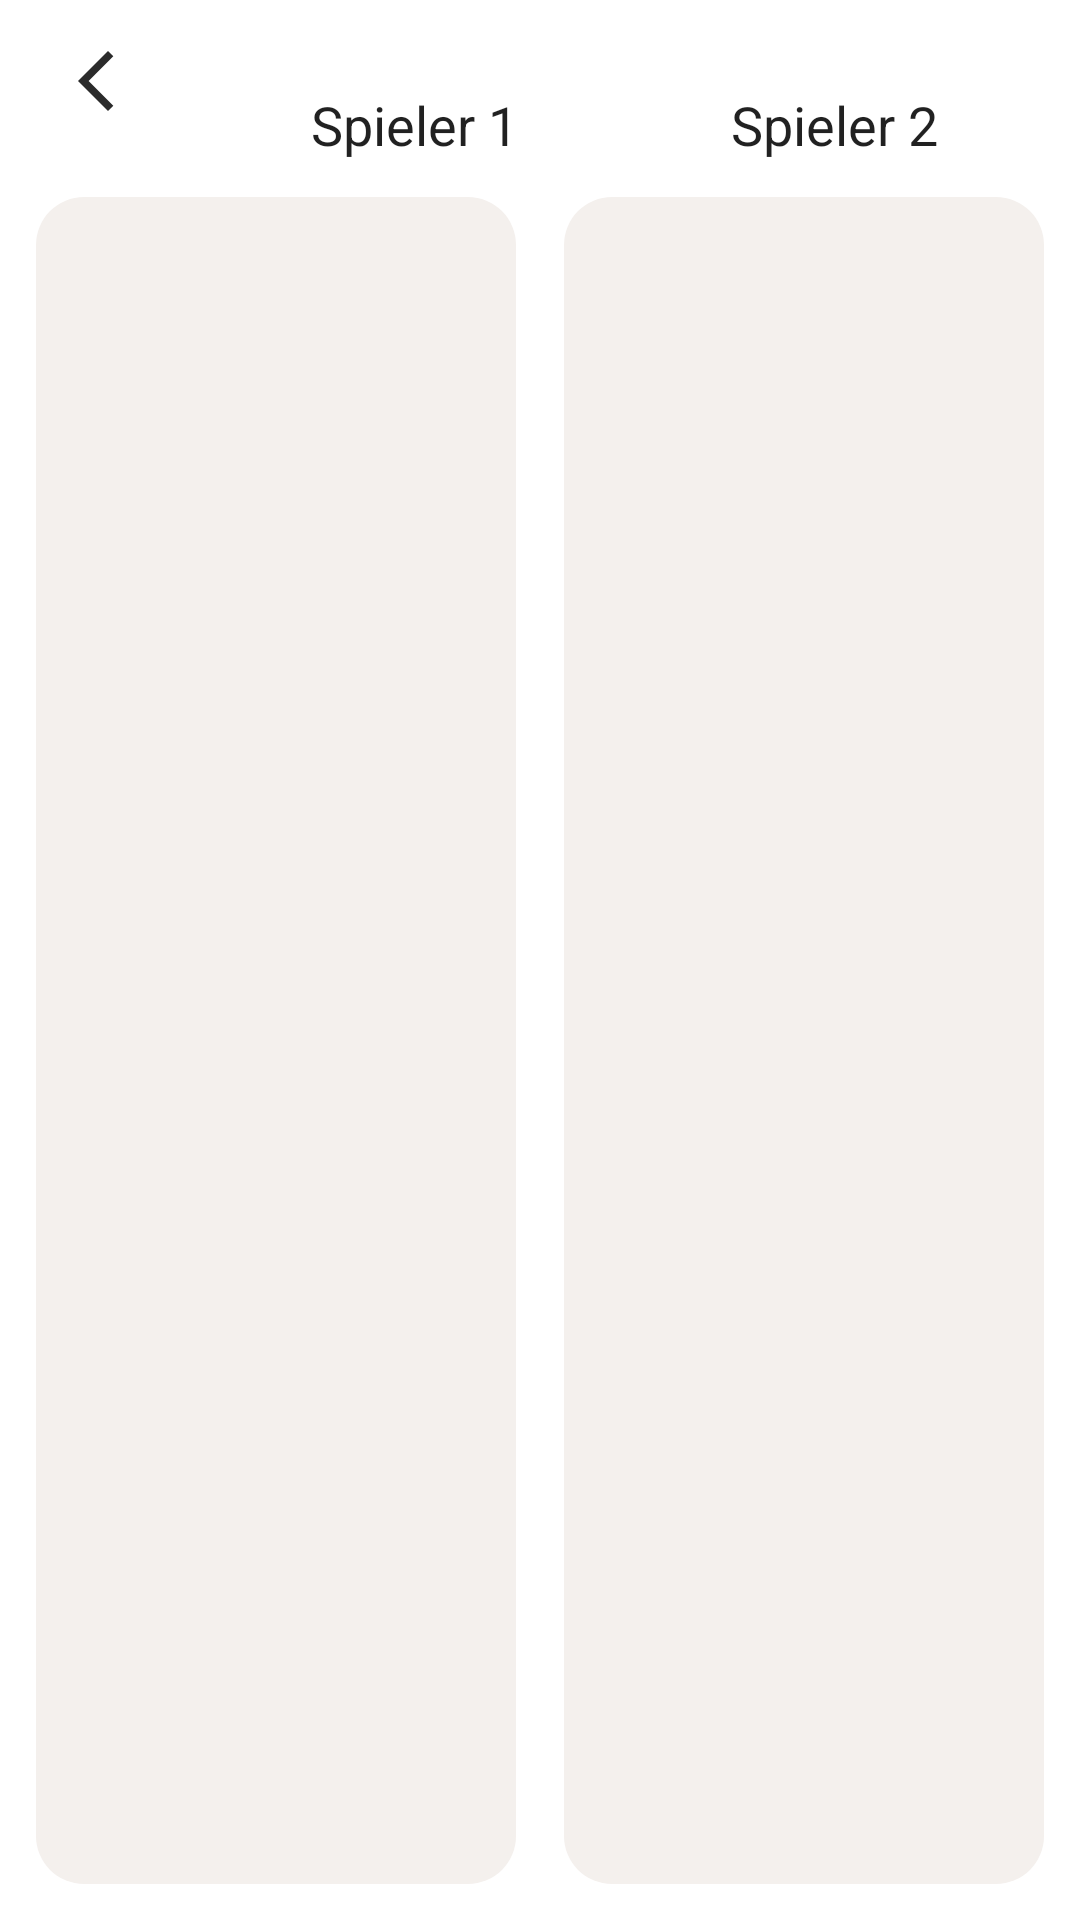

Point at icon controls on the screen. Image size 1080 x 1920, points as point (x, y).
back: point (95, 81)
